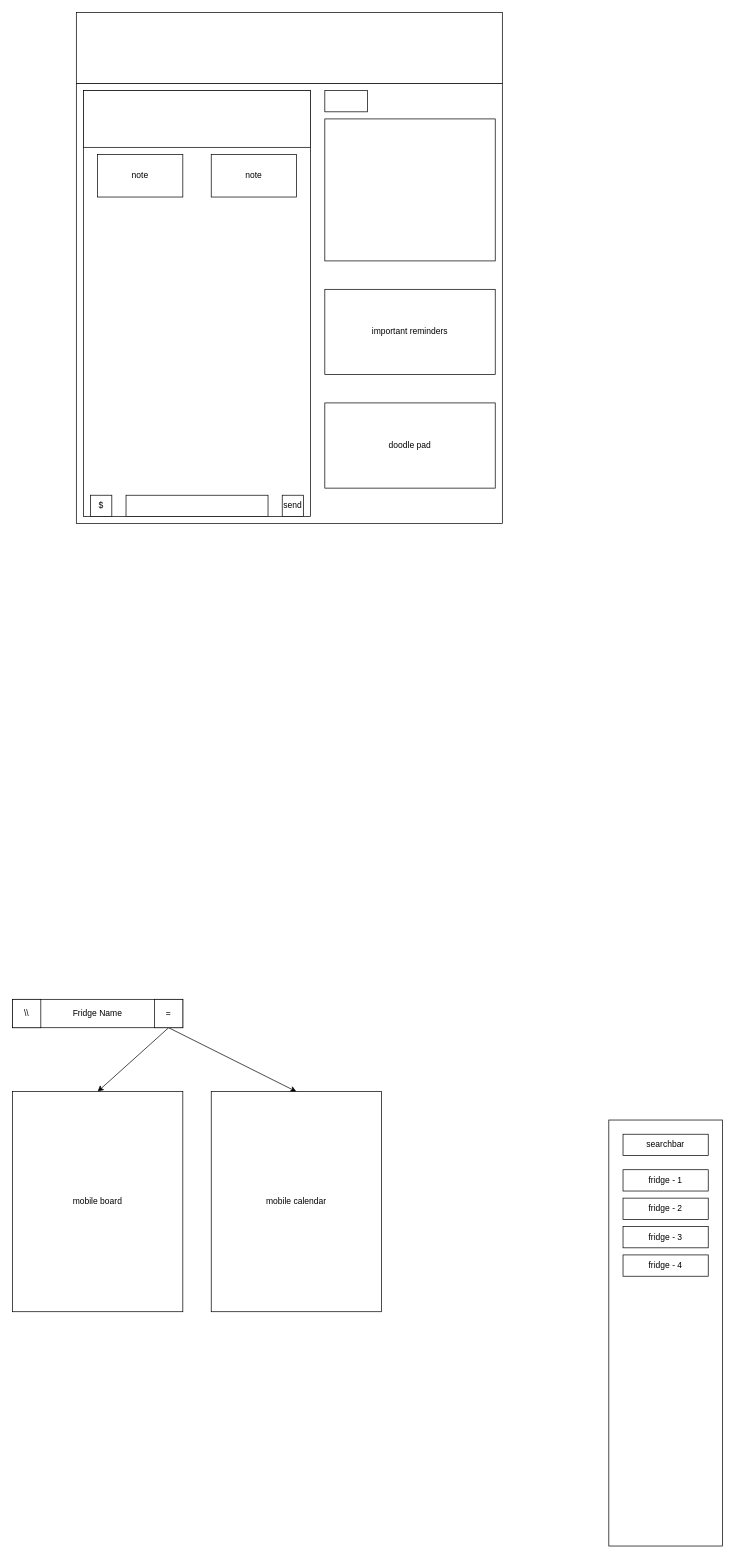
This 735x1558 diagram has some shape labels left out. The shapes that lost their labels are listed below. From the top down, each one's centre as x and y in pixels, then its label:
At point (197, 118): "bulletinboard".
At point (345, 101): "invite".
At point (409, 189): "Calendar".
At point (196, 506): "text input for notes".
